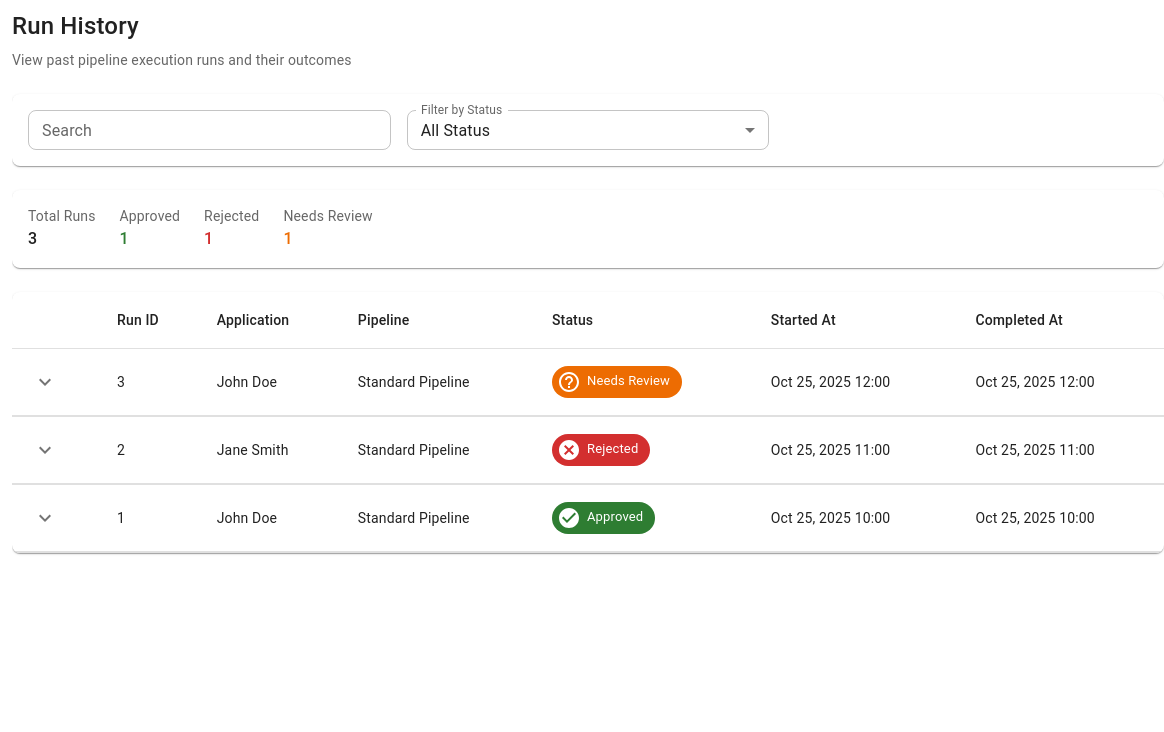
Runs Page › Expandable Rows › should collapse row when clicked again
The width and height of the screenshot is (1164, 732).
Click the 1st button.
click(45, 382)  # box [28,365,62,399]
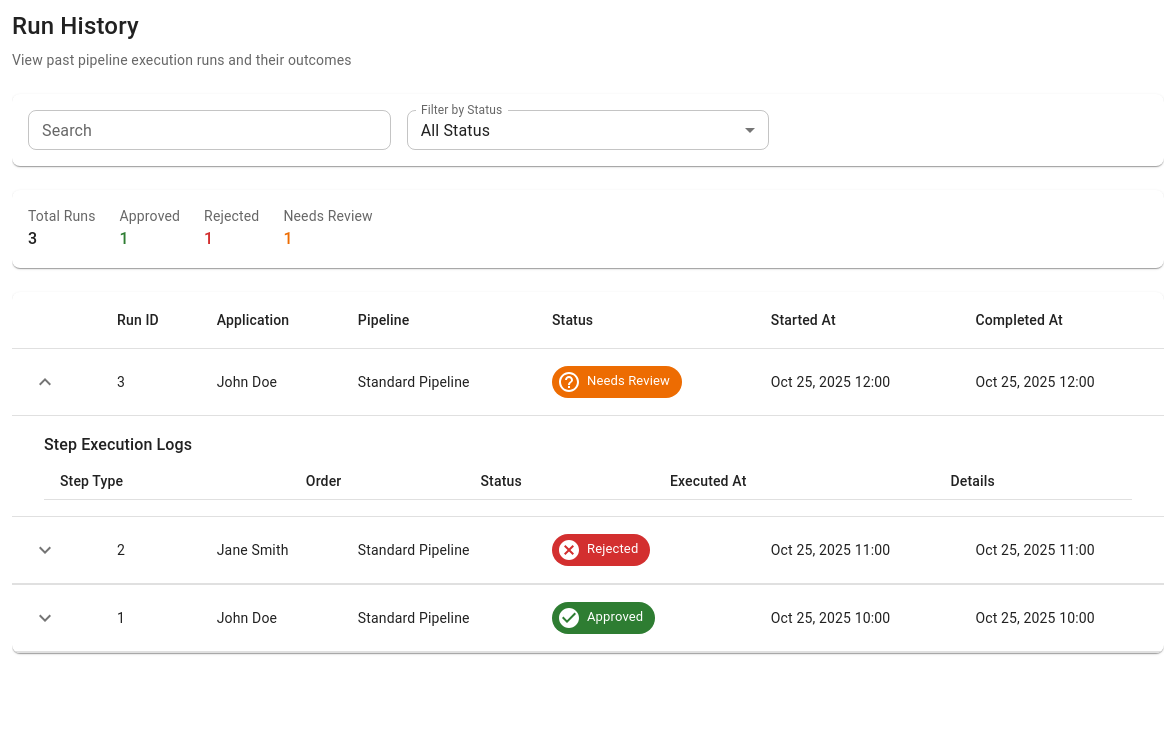
Result: the text "Step Execution Logs" is shown at [44,435,192,454]
Click the 1st button.
click(45, 382)  # box [28,365,62,399]
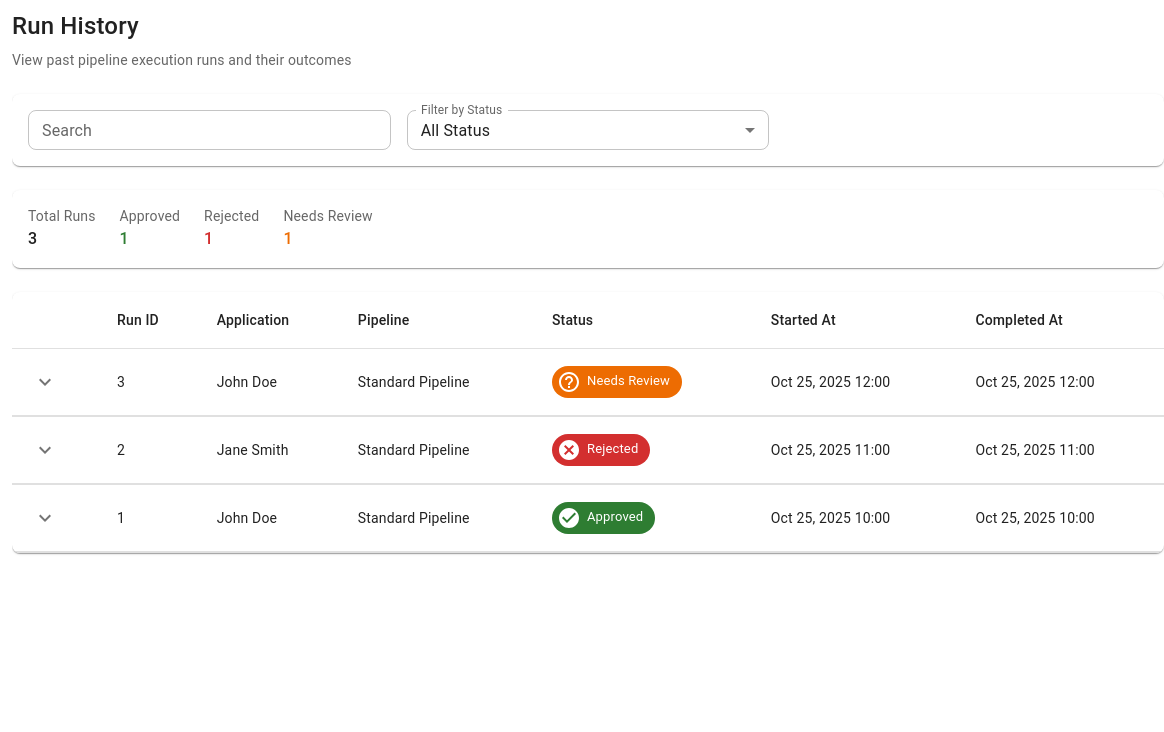
Result: the text "Step Execution Logs" is gone
